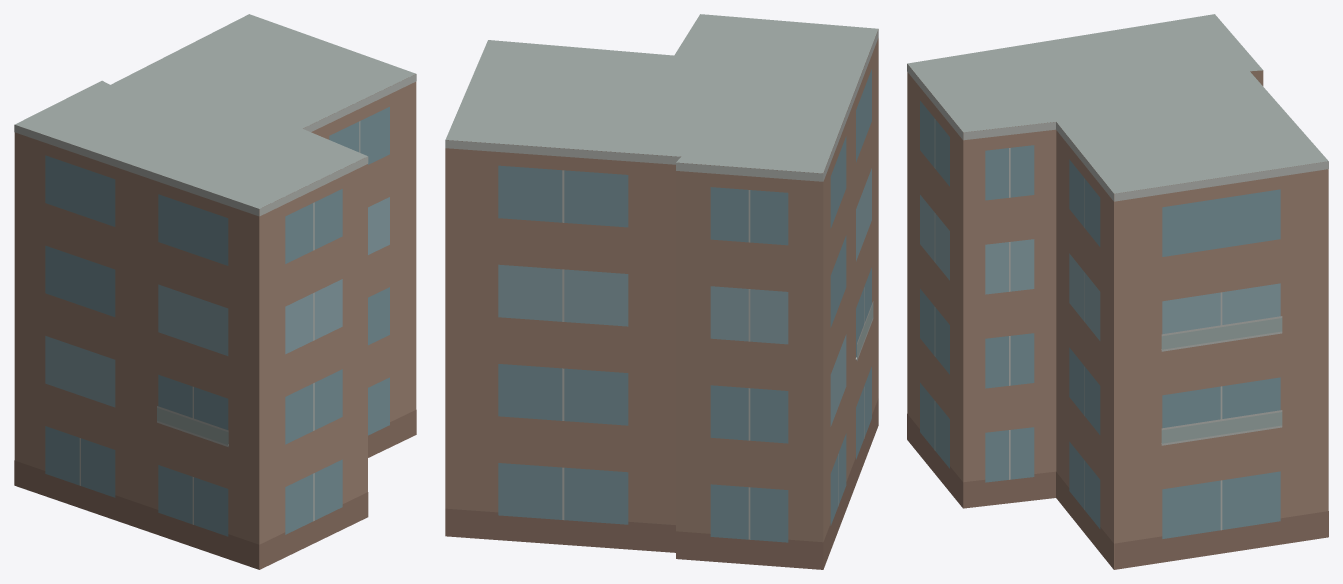
Rendered from survey-upis-32892366.glb.
The picture shows the model from 3 angles, left to right: view 1: azimuth 30°, elevation 25°; view 2: azimuth 150°, elevation 25°; view 3: azimuth 270°, elevation 25°; orthographic projection. The views are drawn at different scales.
Parts seen in each view (by area): view 1: survey-upis-32892366.tmp; view 2: survey-upis-32892366.tmp; view 3: survey-upis-32892366.tmp.
Boxes of the visible parts, <box> form: survey-upis-32892366.tmp: <box>14,14,416,569</box>; survey-upis-32892366.tmp: <box>445,14,878,569</box>; survey-upis-32892366.tmp: <box>907,14,1328,569</box>.
Size of the model in its own units: 11.9 by 11.6 by 11.8.
